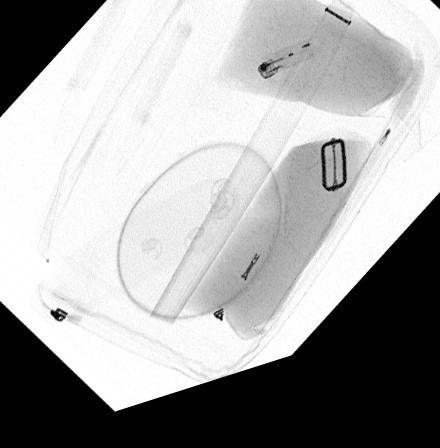Lighter: (255, 57, 317, 97)
